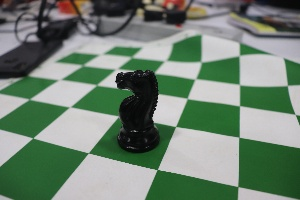black_horse: (101, 54, 163, 159)
